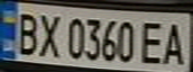0: (115, 17, 139, 64), (63, 14, 84, 61)
3: (81, 15, 103, 62)
6: (100, 17, 121, 63)
A: (160, 18, 190, 66)
B: (9, 8, 42, 56)
E: (139, 18, 169, 66)
X: (33, 9, 63, 58)
